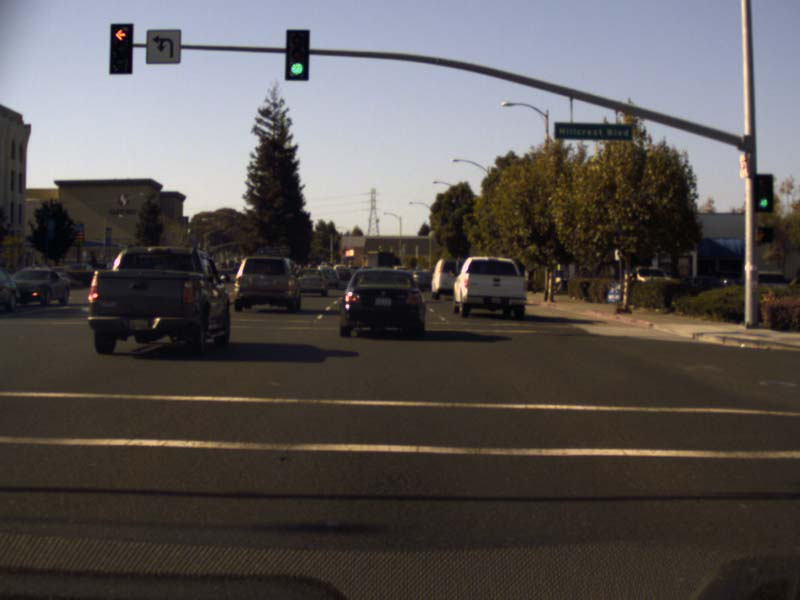Green: (285, 29, 309, 81), (752, 174, 772, 213)
Red: (110, 24, 131, 74)
